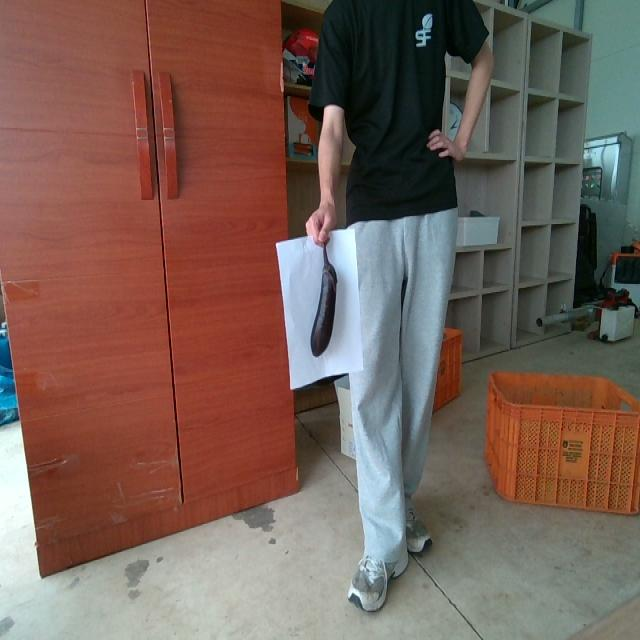Egg plant: (311, 245, 336, 356)
